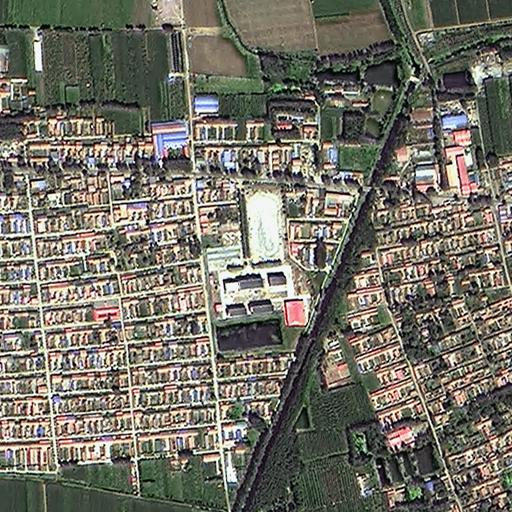school: (216, 185, 310, 327)
